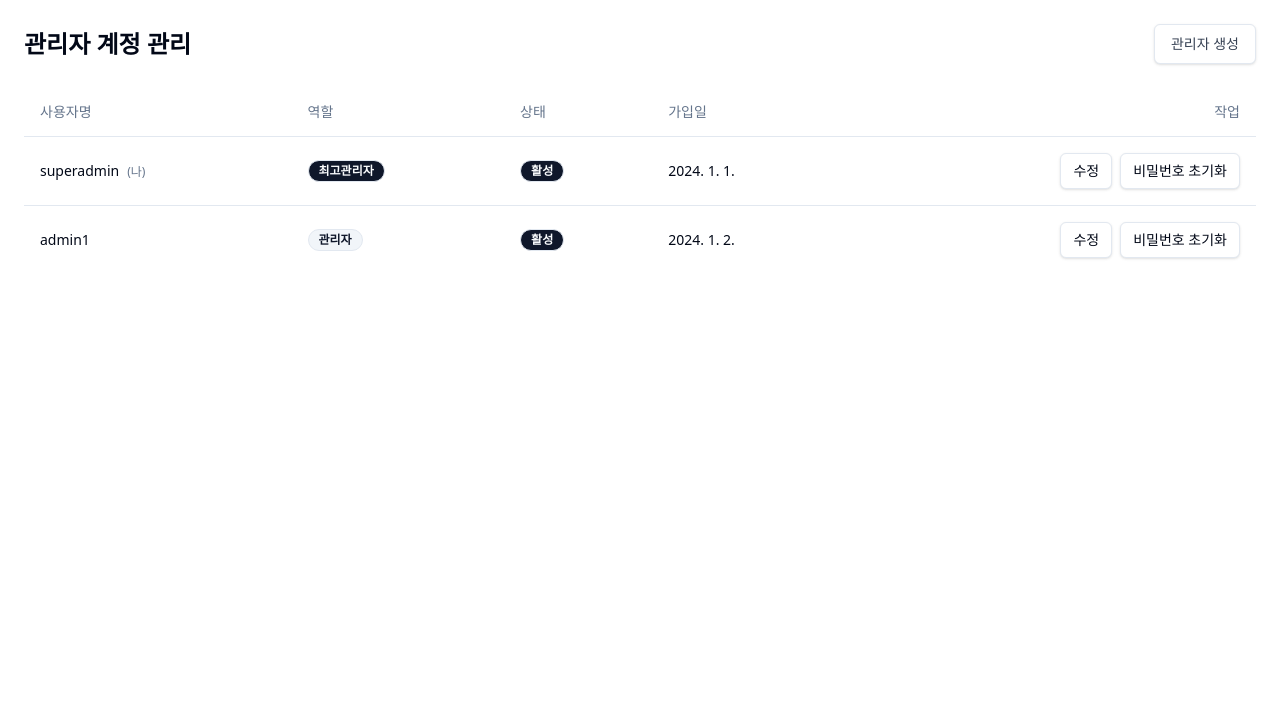
it: AdminUsersPage › REQ-020: 생성 폼 유효성 검사 — username 필수
Expected: the text "superadmin" is shown, [40,160,119,180]
Click the button "관리자 생성" at (1205, 44), box [1154,24,1256,64]
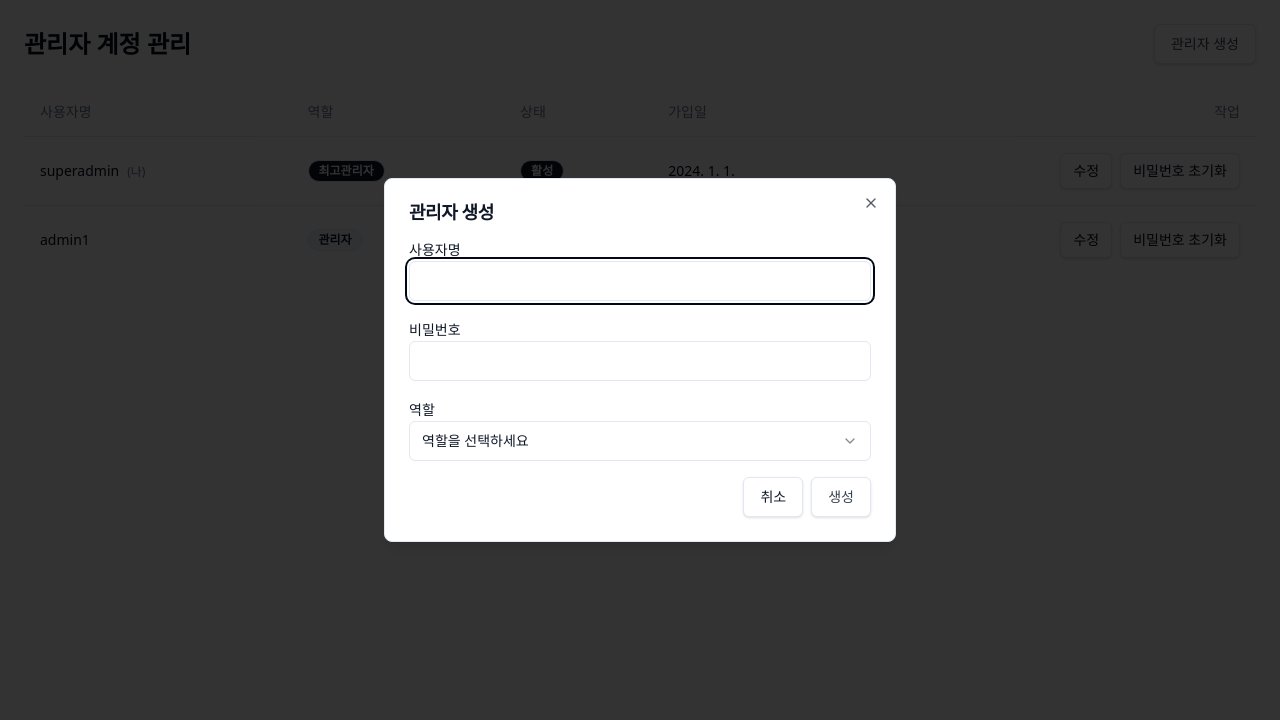
Expected: the dialog is shown, [384,178,896,542]
Click the button "생성" at (841, 497), box [811,477,871,517]
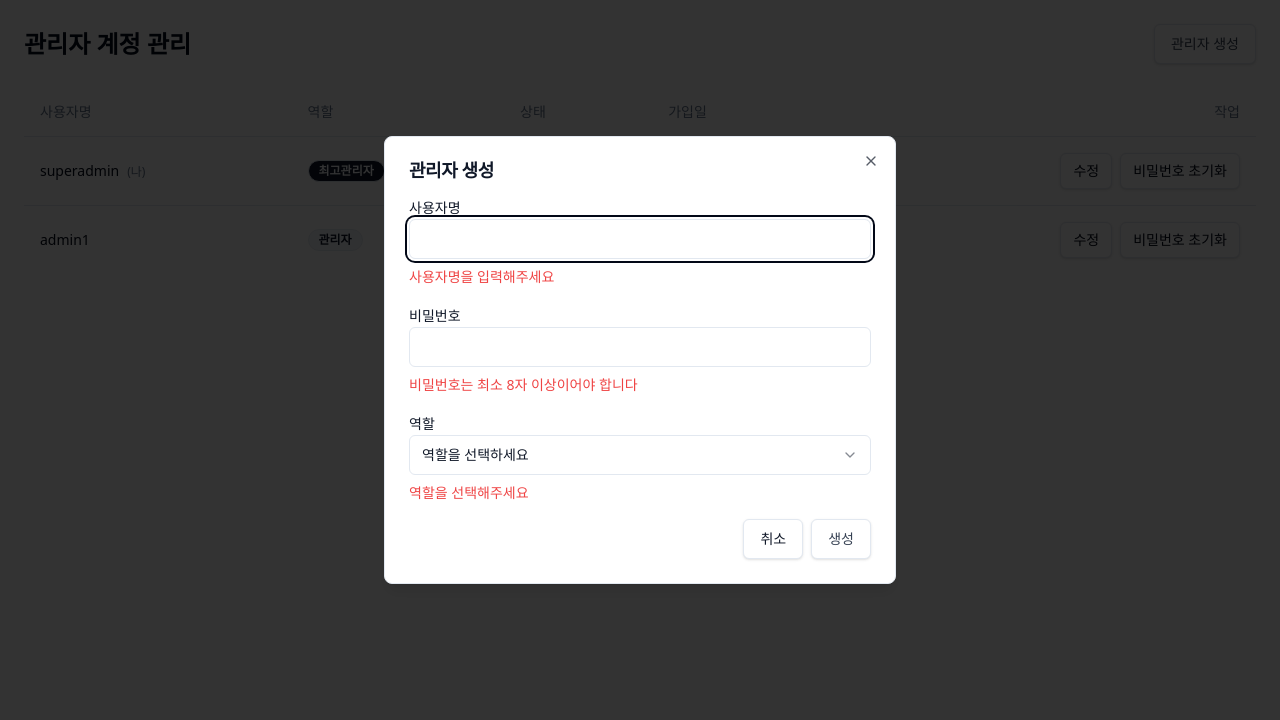
Expected: the text "사용자명을 입력해주세요" is shown, [409,267,554,286]
